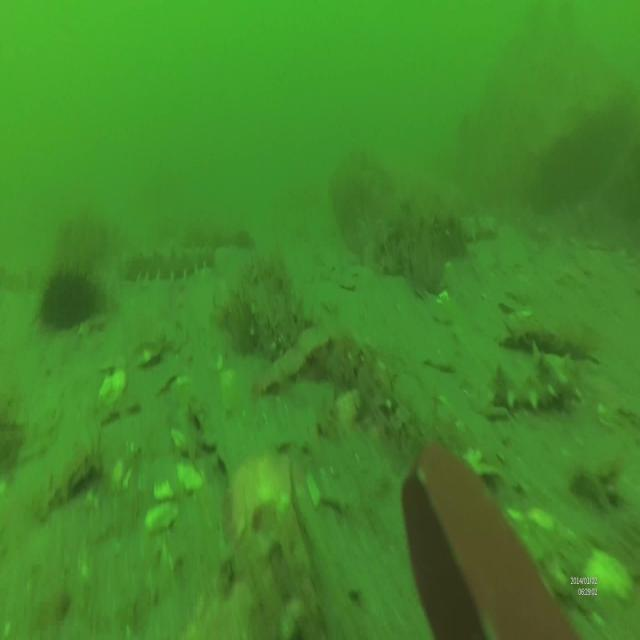echinus: (36, 274, 99, 327)
holothurian: (482, 351, 578, 409), (117, 255, 217, 288)
